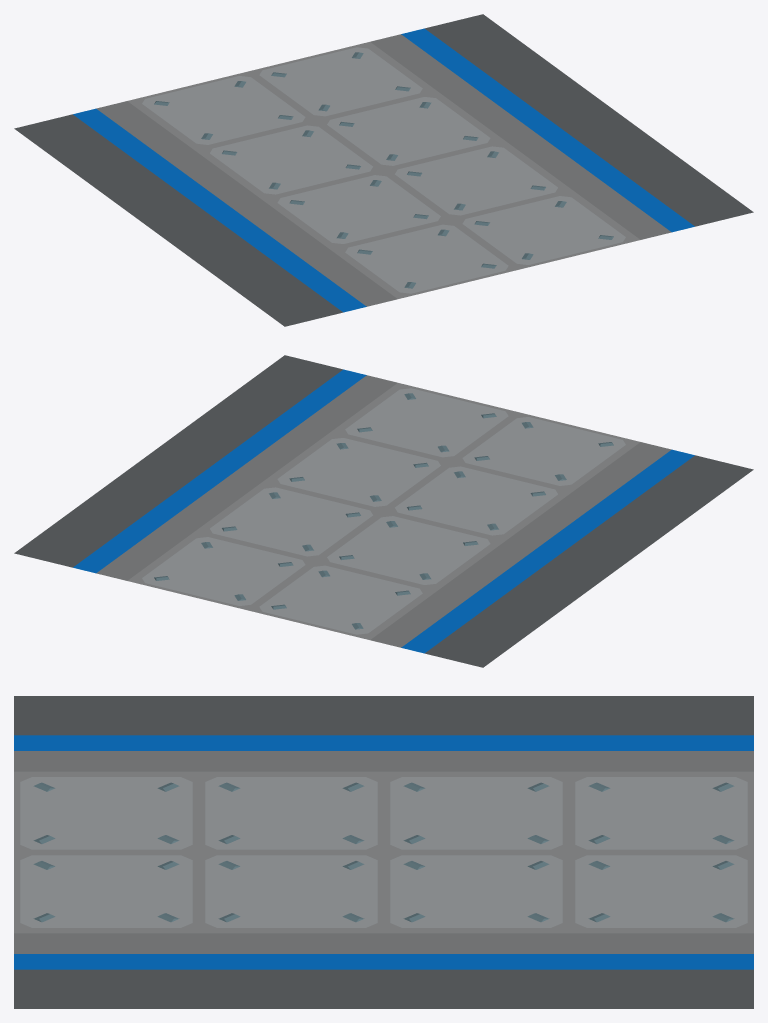
Rendered from Floor_type_B_007.002.fbx.
The picture shows the model from 3 angles, top to bottom: view 1: azimuth 30°, elevation 25°; view 2: azimuth 150°, elevation 25°; view 3: azimuth 270°, elevation 25°; orthographic projection. The views are drawn at different scales.
Parts seen in each view (by area): view 1: Floor_type_B_007.002; view 2: Floor_type_B_007.002; view 3: Floor_type_B_007.002.
Part boxes in pixels (<box>): Floor_type_B_007.002: <box>14,14,753,326</box>; Floor_type_B_007.002: <box>14,355,753,667</box>; Floor_type_B_007.002: <box>14,696,753,1008</box>.
Size of the model in its own units: 400 by 400 by 0.8.
